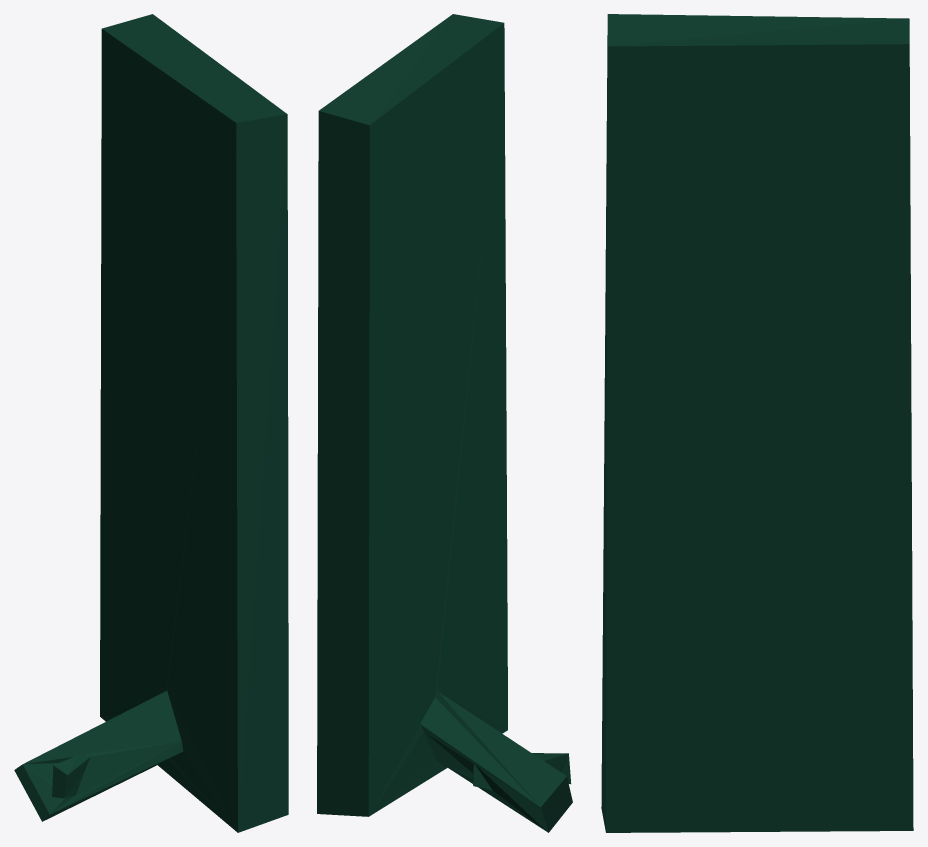
3 renders of one model, left to right at view 1: azimuth 30°, elevation 25°; view 2: azimuth 150°, elevation 25°; view 3: azimuth 270°, elevation 25°, orthographic. The views are drawn at different scales.
Parts seen in each view (by area): view 1: 168_Cube.700; view 2: 168_Cube.700; view 3: 168_Cube.700.
Part boxes in pixels (<box>): 168_Cube.700: <box>14,14,288,832</box>; 168_Cube.700: <box>317,14,572,832</box>; 168_Cube.700: <box>601,14,913,832</box>.
Bounding box in the file's own units: 3.43 × 12.52 × 4.35.
